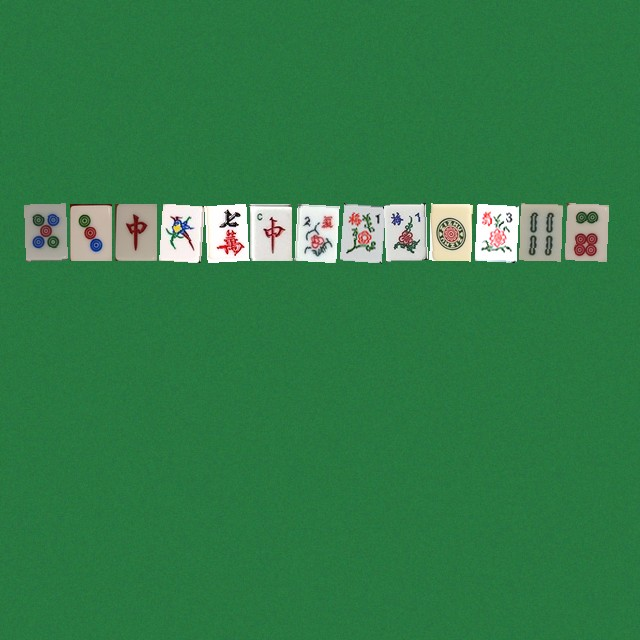tile: (24, 203, 66, 260), (69, 203, 111, 260), (114, 203, 156, 260), (159, 203, 201, 260), (204, 203, 246, 260), (249, 203, 291, 260), (294, 203, 336, 260), (339, 203, 381, 260), (384, 203, 426, 260), (429, 203, 471, 260), (474, 203, 516, 260), (519, 203, 561, 260), (564, 203, 606, 260)
